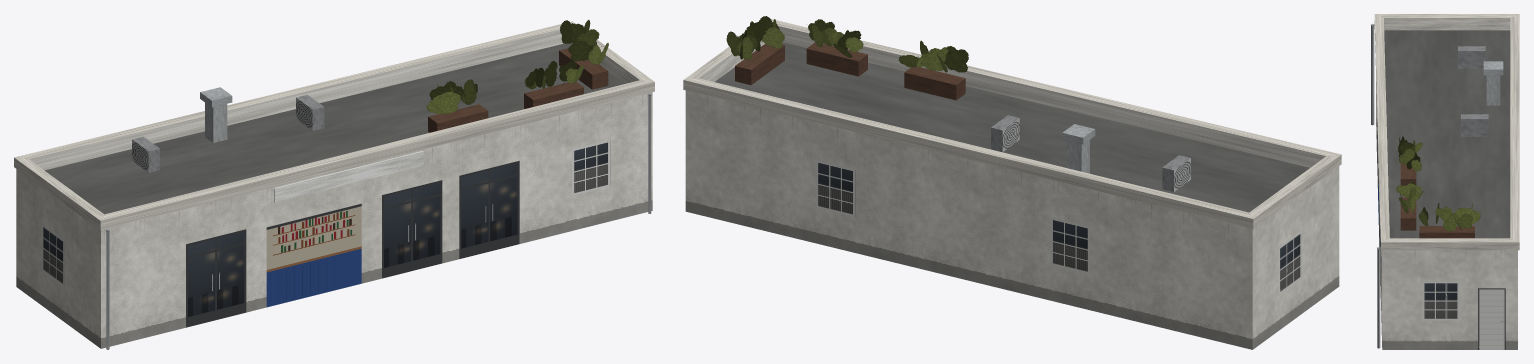
The model's file is SM_Molo_Edificio_C_v2_LOD2.fbx.
3 views of the same model, side by side, from view 1: azimuth 30°, elevation 25°; view 2: azimuth 150°, elevation 25°; view 3: azimuth 270°, elevation 25° (orthographic). The views are drawn at different scales.
Visible parts, largest first — view 1: SM_Molo_Edificio_C_v2_LOD2; view 2: SM_Molo_Edificio_C_v2_LOD2; view 3: SM_Molo_Edificio_C_v2_LOD2.
Boxes of the visible parts, box(x1,y1,x2,y2) form: SM_Molo_Edificio_C_v2_LOD2: box(14, 20, 654, 349); SM_Molo_Edificio_C_v2_LOD2: box(683, 16, 1341, 349); SM_Molo_Edificio_C_v2_LOD2: box(1371, 14, 1519, 349).
Size of the model in its own units: 1749 by 483 by 483.
2 materials, 2 textured.
